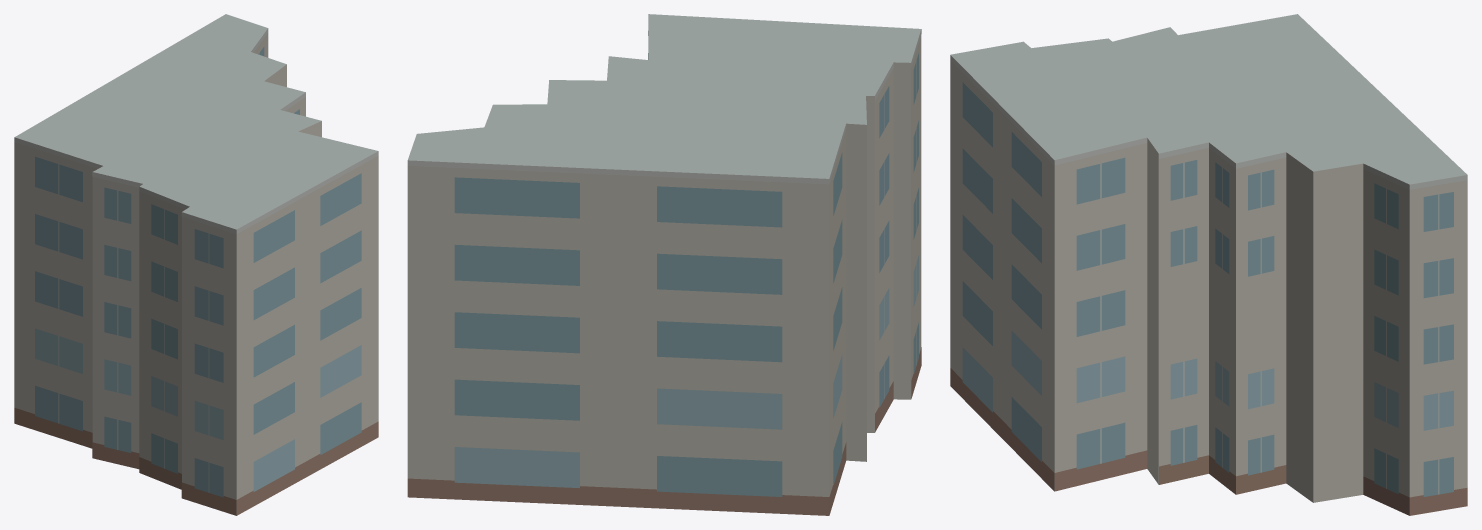
File: survey-upis-32607071.glb
3 views of the same model, side by side, from view 1: azimuth 30°, elevation 25°; view 2: azimuth 150°, elevation 25°; view 3: azimuth 270°, elevation 25° (orthographic). The views are drawn at different scales.
Parts seen in each view (by area): view 1: survey-upis-32607071.tmp; view 2: survey-upis-32607071.tmp; view 3: survey-upis-32607071.tmp.
Boxes of the visible parts, <box> form: survey-upis-32607071.tmp: <box>14,14,378,515</box>; survey-upis-32607071.tmp: <box>407,14,921,515</box>; survey-upis-32607071.tmp: <box>950,14,1467,515</box>.
Bounding box in the file's own units: 16.85 × 15.25 × 21.6.
